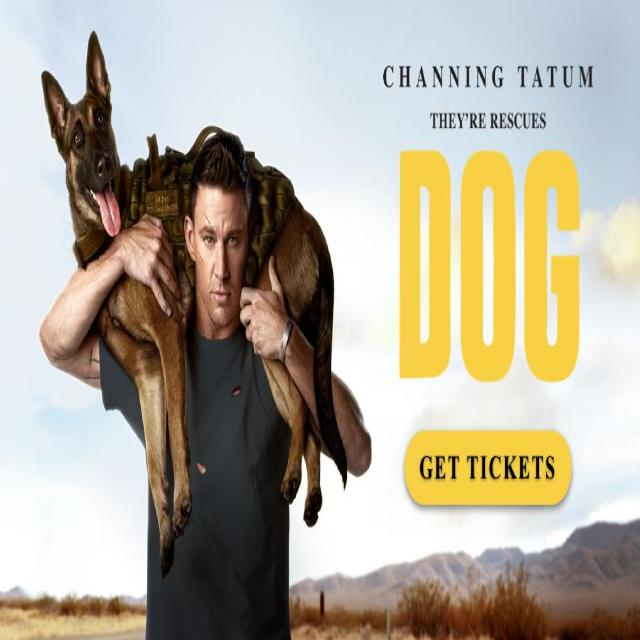Dog: (31, 25, 124, 244)
